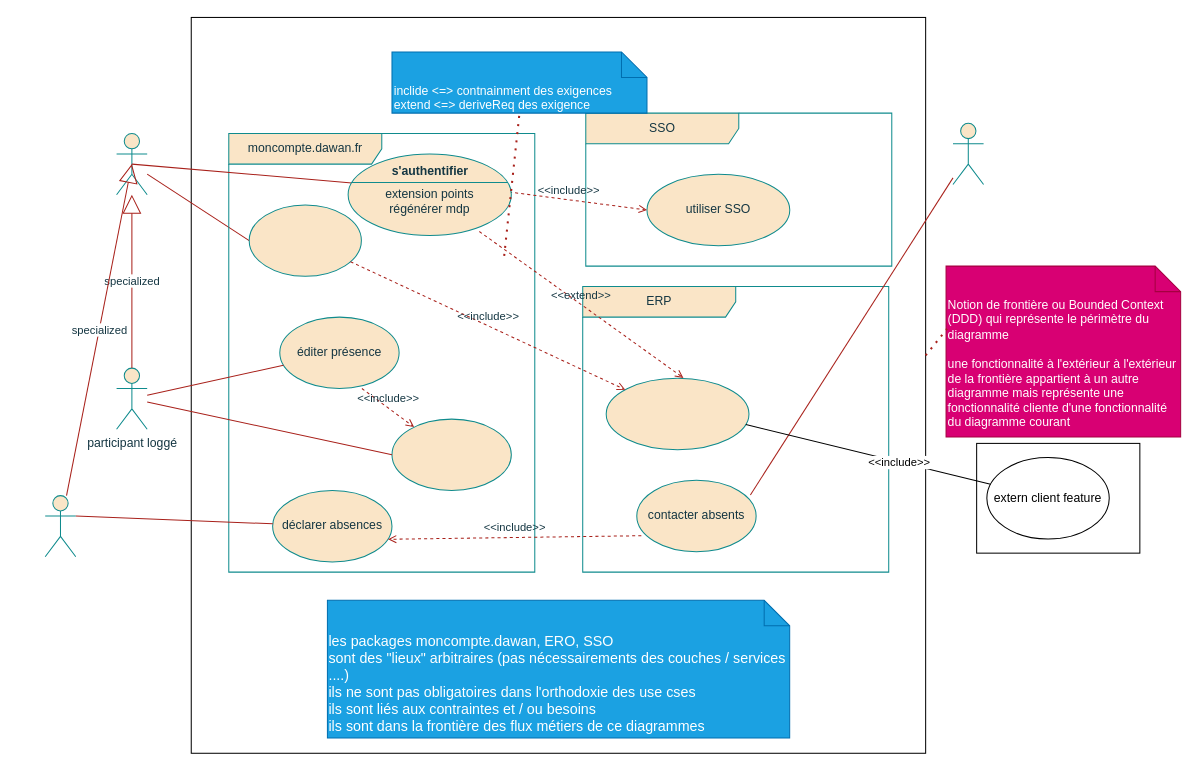
Some shapes in this 1200 by 772 pixel diagram are drawn without their labels. Each missing label, with the centre of its shape:
"administratif" belongs at pixel 968 153.
"créer signature" belongs at pixel 451 454.
"formateur loggé" belongs at pixel 60 526.
"générer son mdp" belongs at pixel 304 240.
"utilisateur" belongs at pixel 131 163.
"utiliser API user" belongs at pixel 677 413.
